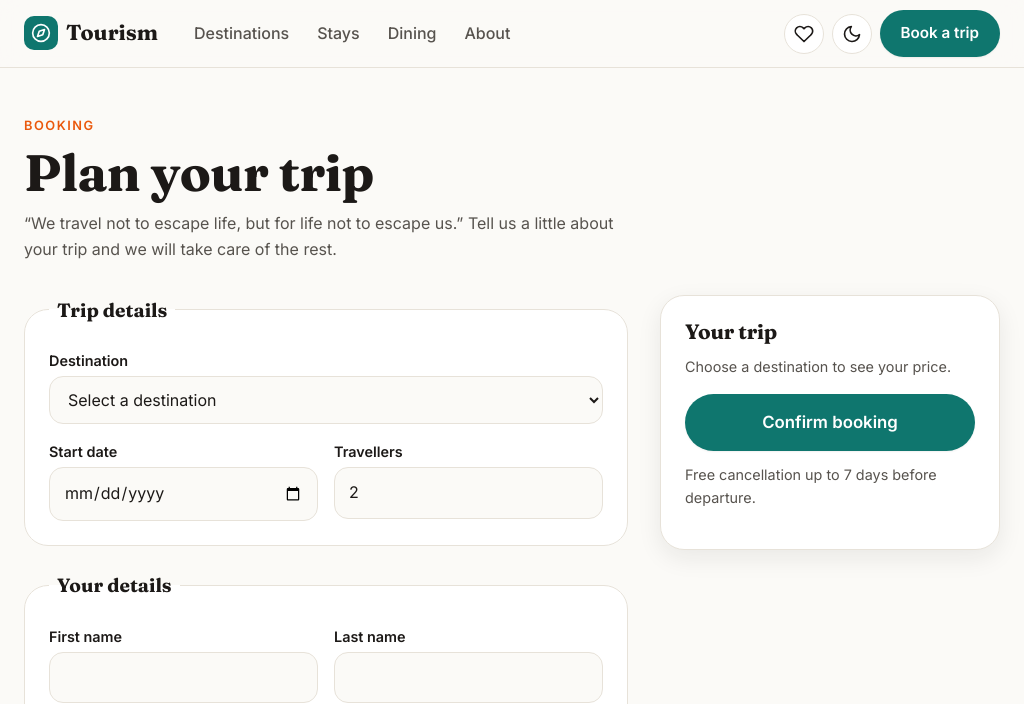
Scenario: booking flow › shows validation errors and does not submit an empty form
The image size is (1024, 704).
Click the button "Confirm booking". click: (830, 423)
box: [685, 394, 975, 451]
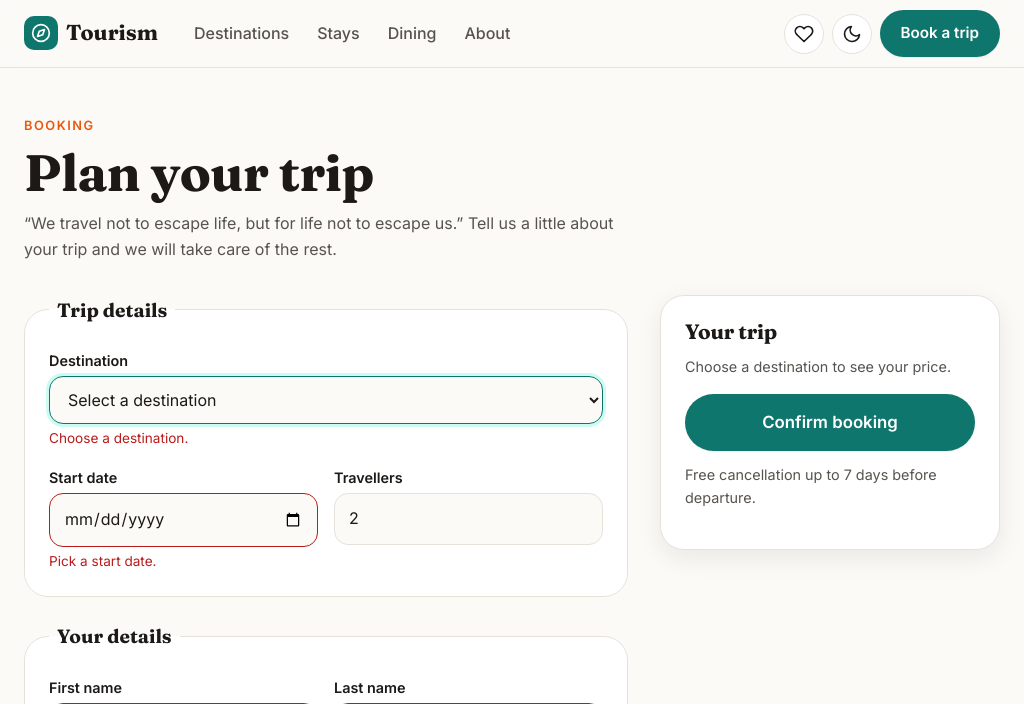
Expected: the text "Choose a destination." is shown, [49, 430, 188, 446]
